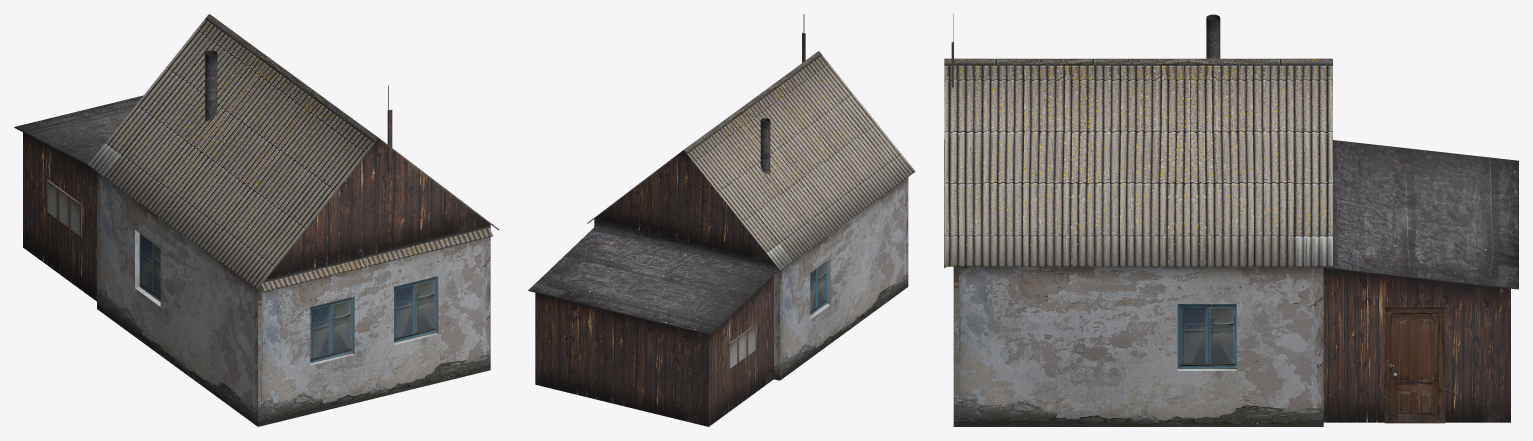
The model's file is r402_abatskoe_dom_1et2.FBX.
The picture shows the model from 3 angles, left to right: view 1: azimuth 30°, elevation 25°; view 2: azimuth 150°, elevation 25°; view 3: azimuth 270°, elevation 25°; orthographic projection. The views are drawn at different scales.
Visible parts, largest first — view 1: r402_abatskoe_dom_1et1; view 2: r402_abatskoe_dom_1et1; view 3: r402_abatskoe_dom_1et1.
Boxes of the visible parts, bbox=[...] form: r402_abatskoe_dom_1et1: bbox=[14, 14, 499, 426]; r402_abatskoe_dom_1et1: bbox=[528, 14, 915, 426]; r402_abatskoe_dom_1et1: bbox=[944, 14, 1518, 426].
Bounding box in the file's own units: 521 × 932 × 636.
